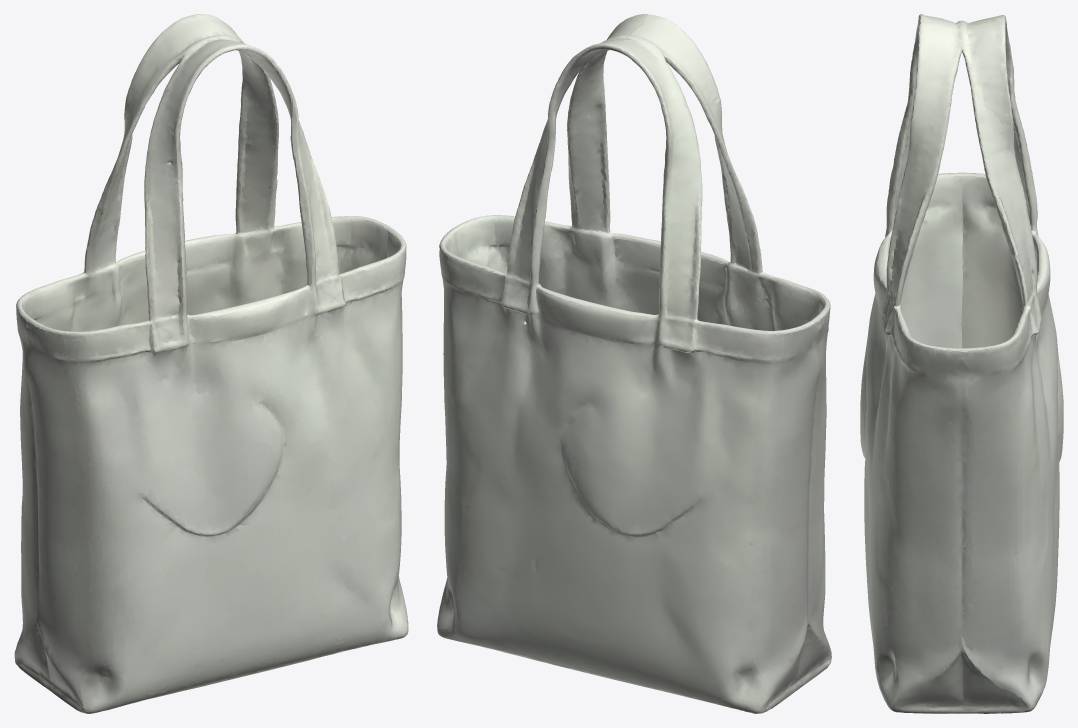
File: tote.glb
3 renders of one model, left to right at view 1: azimuth 30°, elevation 25°; view 2: azimuth 150°, elevation 25°; view 3: azimuth 270°, elevation 25°, orthographic.
Parts seen in each view (by area): view 1: geometry_0; view 2: geometry_0; view 3: geometry_0.
Boxes of the visible parts, x1,y1,x2,y2 form: geometry_0: [14, 14, 408, 713]; geometry_0: [437, 14, 831, 713]; geometry_0: [860, 14, 1063, 713].
Size of the model in its own units: 0.2635 by 0.42 by 0.1258.
1 material, 1 textured.
